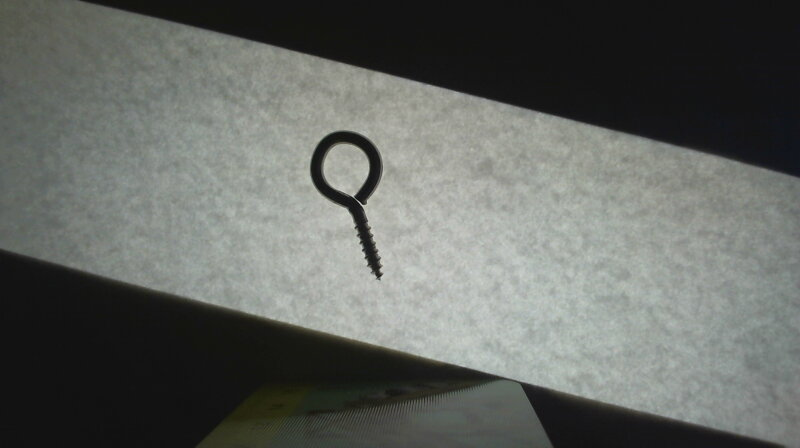O001: (306, 127, 391, 282)
